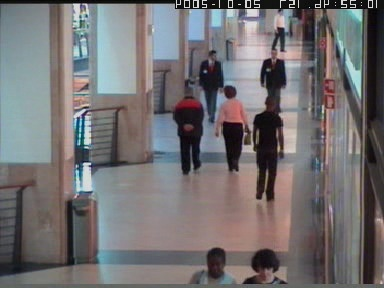person: (253, 97, 284, 200), (215, 87, 251, 175), (172, 86, 205, 174), (260, 48, 287, 118), (198, 50, 223, 122), (189, 246, 236, 284), (243, 248, 287, 283), (272, 9, 287, 52)
